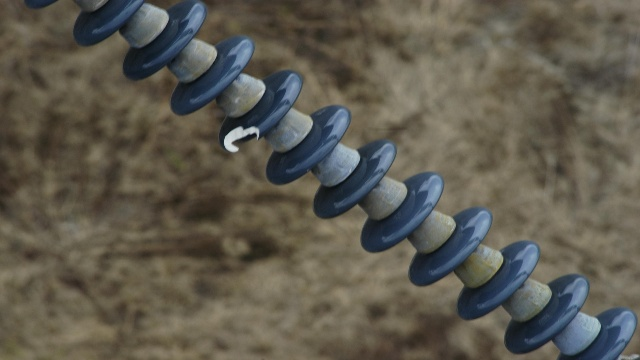broken_local: (220, 123, 266, 153)
insulator_unspecified: (22, 0, 636, 358)
